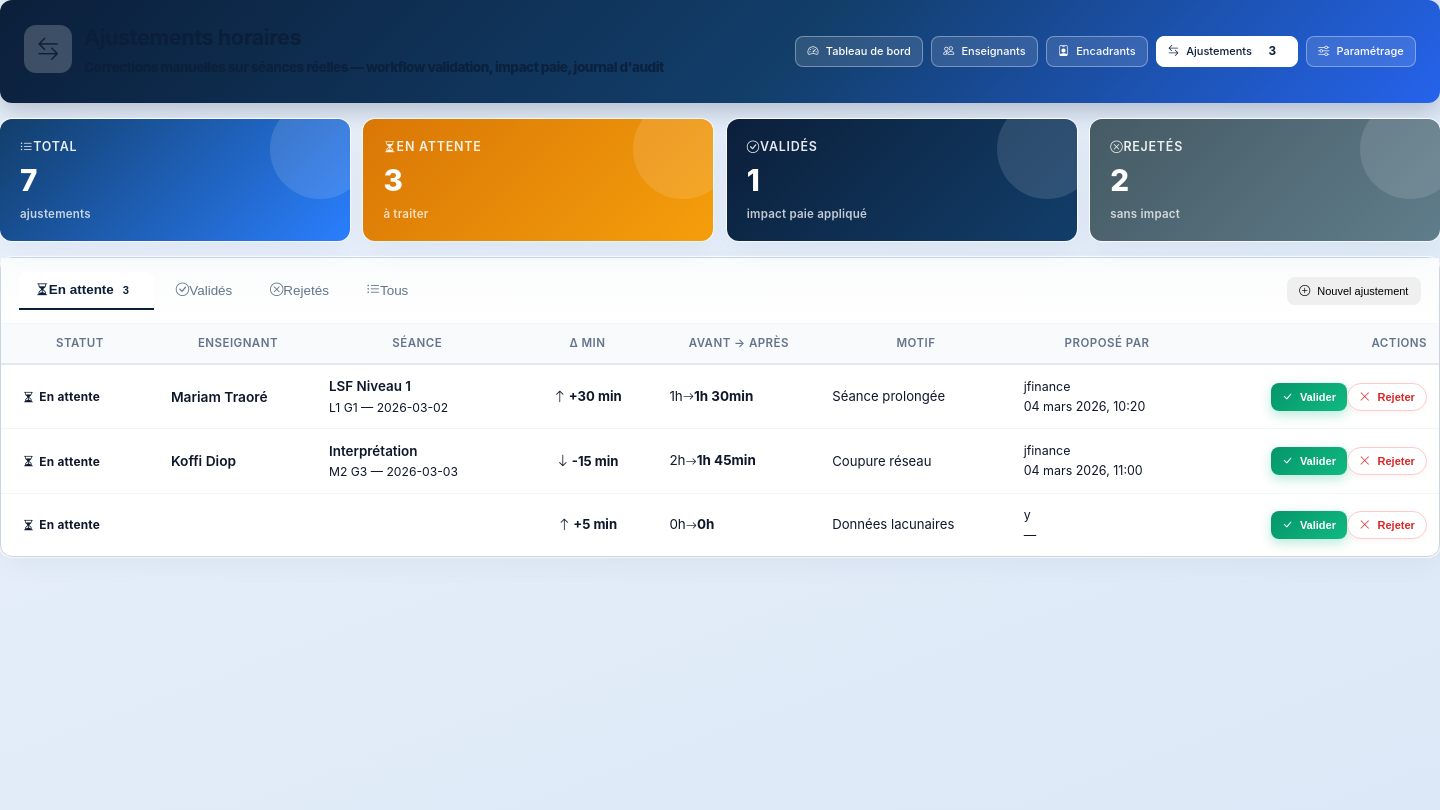
pages/FinanceAjustements.jsx — workflow de validation (LOT 29) › ouvre la modale de rejet avec son résumé (delta positif en vert)
The image size is (1440, 810).
Click the button "Rejeter" in the row of "Mariam Traoré" at [1387, 397], box [1347,383,1427,411]
(page scrolled)
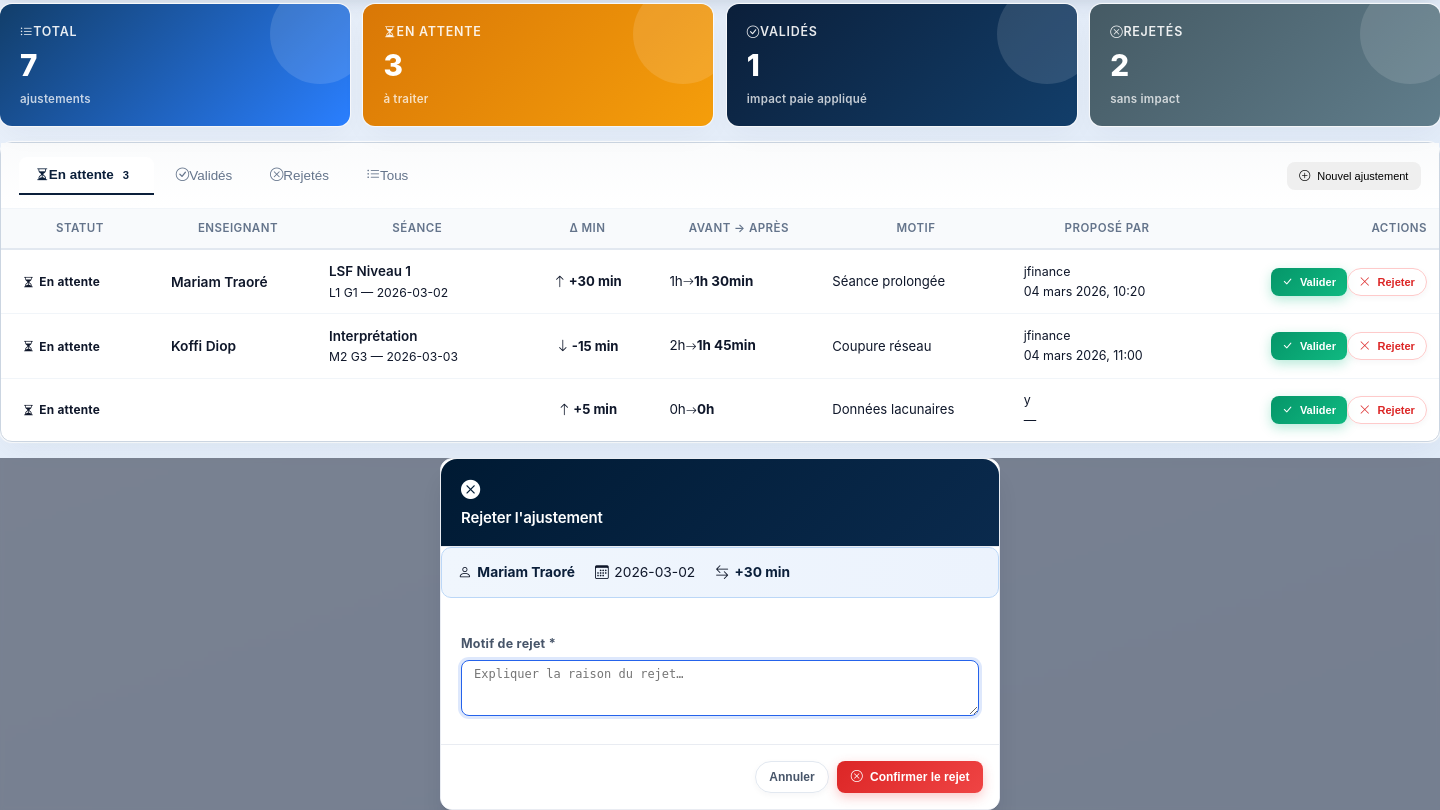
Check: the element with class "show" is shown, box [0,458,1439,809]
Check: the heading "Rejeter l'ajustement" is shown, box [461,506,603,530]
Check: the text "Mariam Traoré" below "Rejeter l'ajustement" is shown, box [477,564,575,580]
